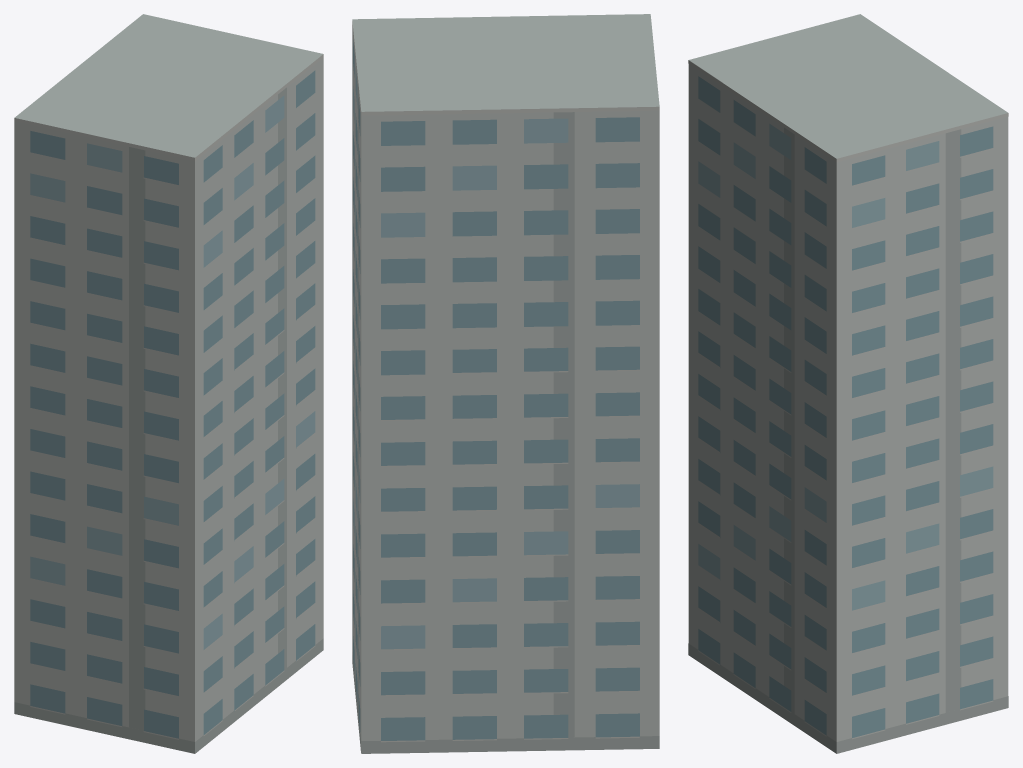
The model's file is residential-a791c0ae-2624-4352-8645-2e2f0349ec6c.glb.
3 views of the same model, side by side, from view 1: azimuth 30°, elevation 25°; view 2: azimuth 150°, elevation 25°; view 3: azimuth 270°, elevation 25° (orthographic). The views are drawn at different scales.
Parts seen in each view (by area): view 1: residential-a791c0ae-2624-4352-8645-2e2f0349ec6c.tmp; view 2: residential-a791c0ae-2624-4352-8645-2e2f0349ec6c.tmp; view 3: residential-a791c0ae-2624-4352-8645-2e2f0349ec6c.tmp.
Boxes of the visible parts, left/top/right/bottom form: residential-a791c0ae-2624-4352-8645-2e2f0349ec6c.tmp: left=14, top=14, right=323, bottom=753; residential-a791c0ae-2624-4352-8645-2e2f0349ec6c.tmp: left=352, top=14, right=659, bottom=753; residential-a791c0ae-2624-4352-8645-2e2f0349ec6c.tmp: left=688, top=14, right=1008, bottom=753.
Bounding box in the file's own units: 20.89 × 40 × 19.5.
